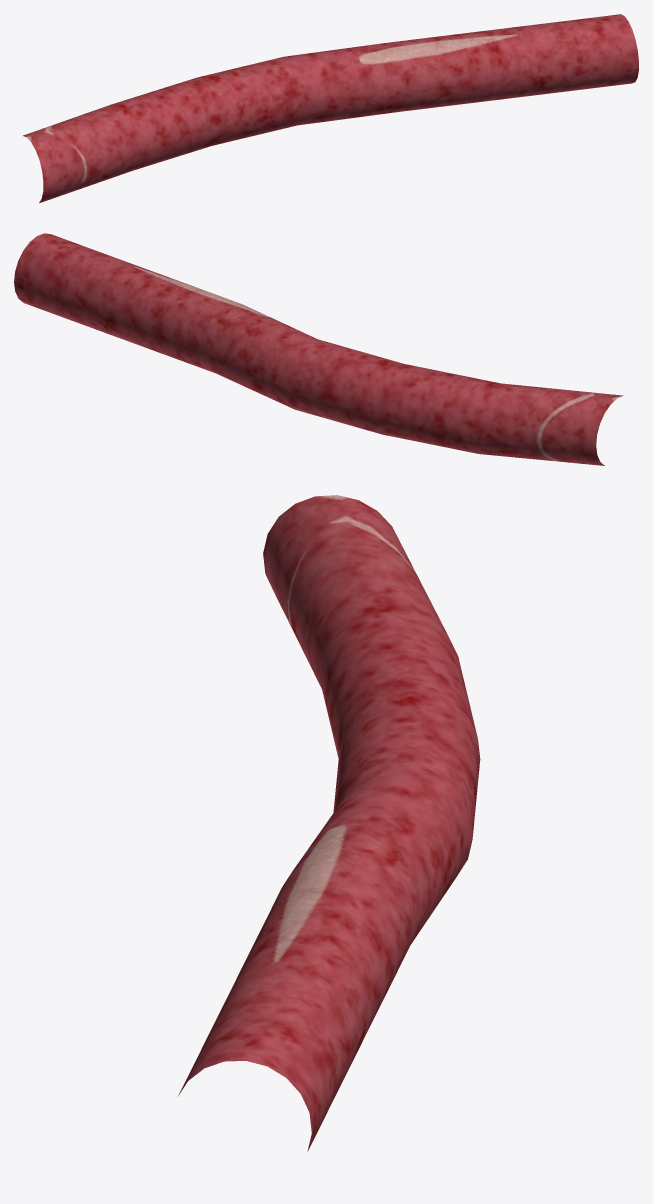
Rendered from Renal_Vein1.glb.
The picture shows the model from 3 angles, top to bottom: view 1: azimuth 30°, elevation 25°; view 2: azimuth 150°, elevation 25°; view 3: azimuth 270°, elevation 25°; orthographic projection. The views are drawn at different scales.
Visible parts, largest first — view 1: renal_vein; view 2: renal_vein; view 3: renal_vein.
Boxes of the visible parts, <box> form: renal_vein: <box>23,14,638,203</box>; renal_vein: <box>14,233,623,465</box>; renal_vein: <box>178,495,480,1151</box>.
Size of the model in its own units: 31.14 by 3.51 by 7.12.
Materials: 1 (1 with a texture image).
